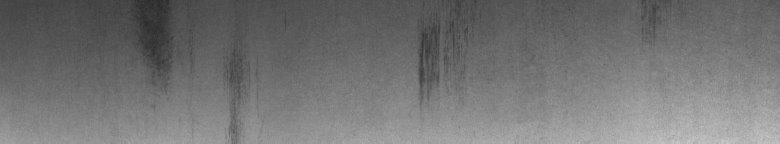ka: (412, 4, 468, 104)
